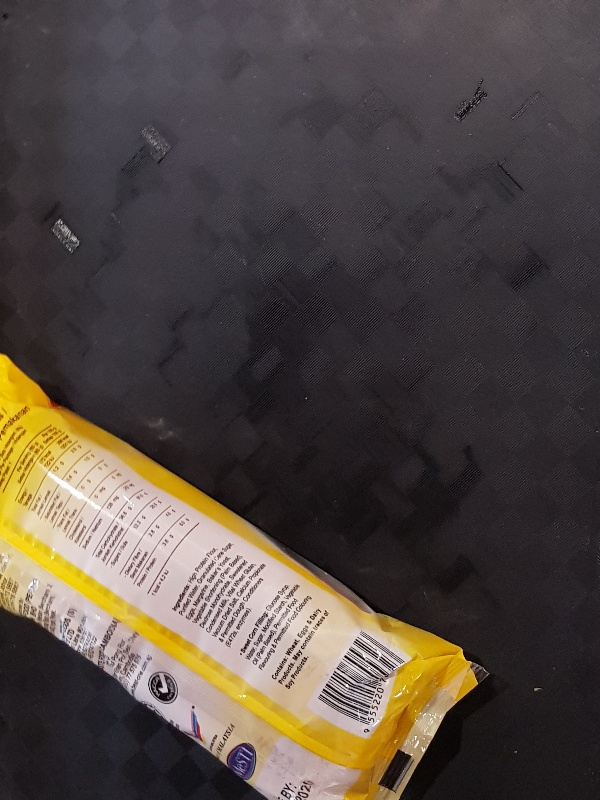Tinges Roll Sweet Corn: (2, 351, 490, 800)
